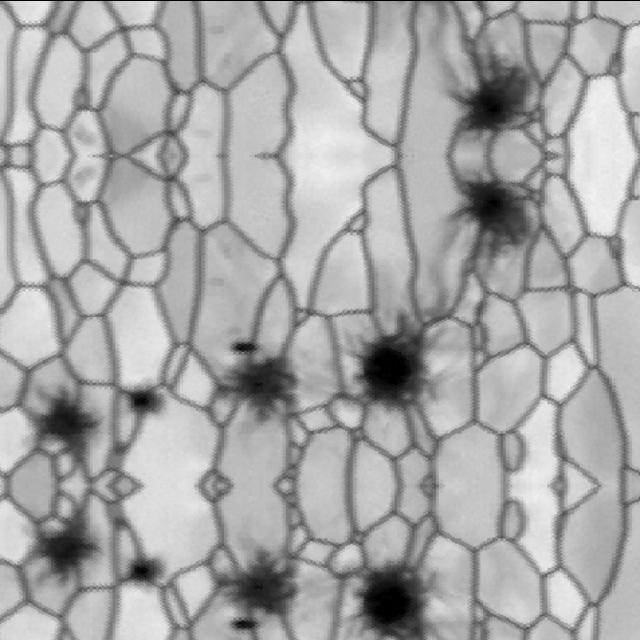good_void: (320, 282, 494, 454), (437, 159, 566, 280), (437, 32, 566, 153), (341, 540, 461, 640), (208, 331, 318, 433), (208, 539, 318, 640), (14, 373, 113, 474), (14, 498, 113, 599), (120, 379, 171, 422), (120, 550, 171, 593), (70, 160, 103, 194), (70, 118, 103, 152), (230, 337, 263, 354), (230, 618, 263, 635), (193, 166, 216, 189), (193, 123, 216, 146)
